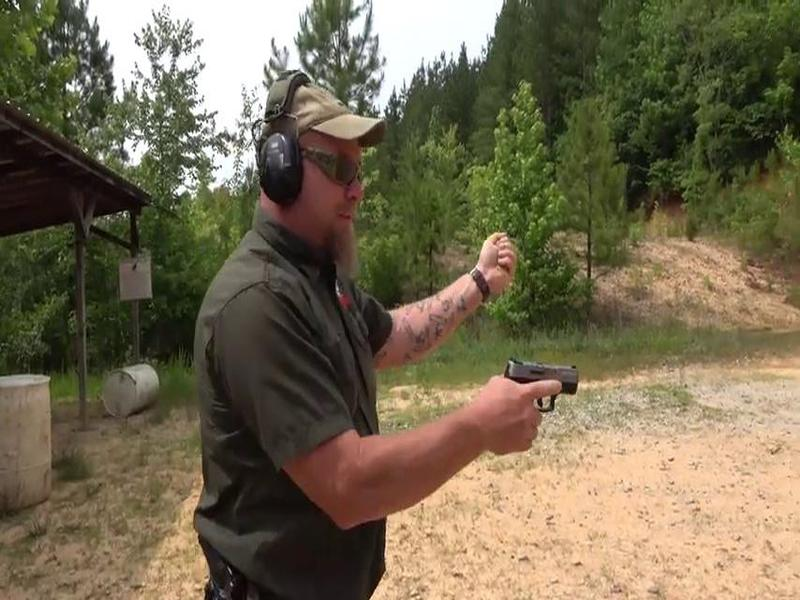Pistola: (457, 329, 596, 451)
